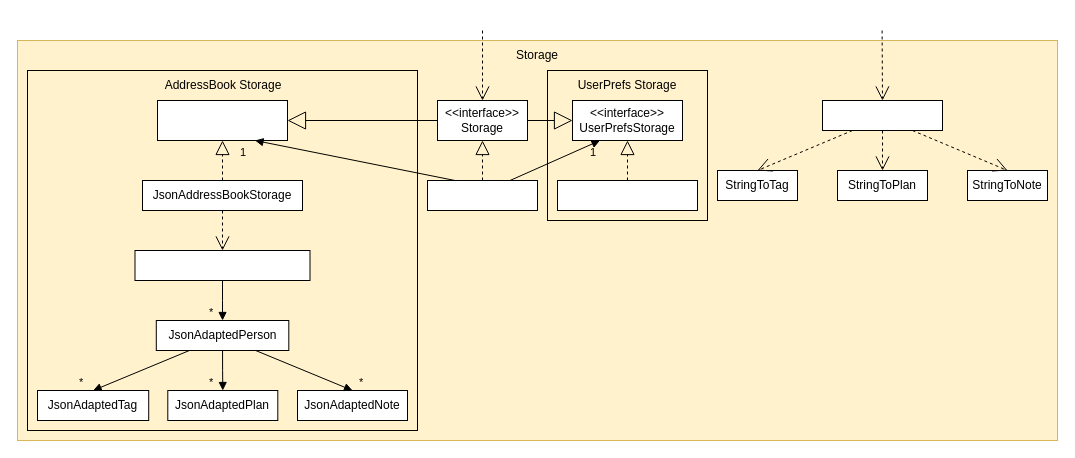
This 1075x458 diagram has some shape labels left out. Each missing label, with the box of its shape:
<<interface>> AddressBookStorage: (156, 100, 288, 140)
CsvAdaptedPerson: (822, 100, 942, 130)
JsonSerializableAddressBook: (134, 250, 310, 280)
JsonUserPrefsStorage: (556, 180, 698, 210)
StorageManager: (426, 180, 538, 210)
